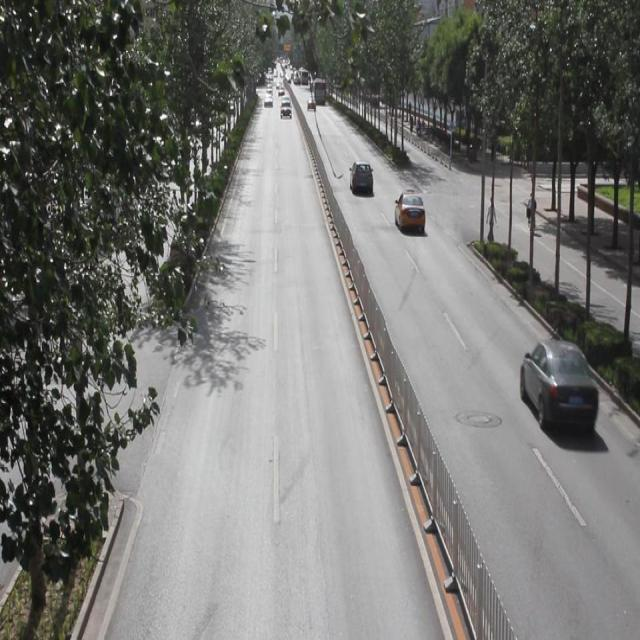car: (518, 336, 597, 431), (393, 190, 426, 236), (348, 160, 374, 198)
